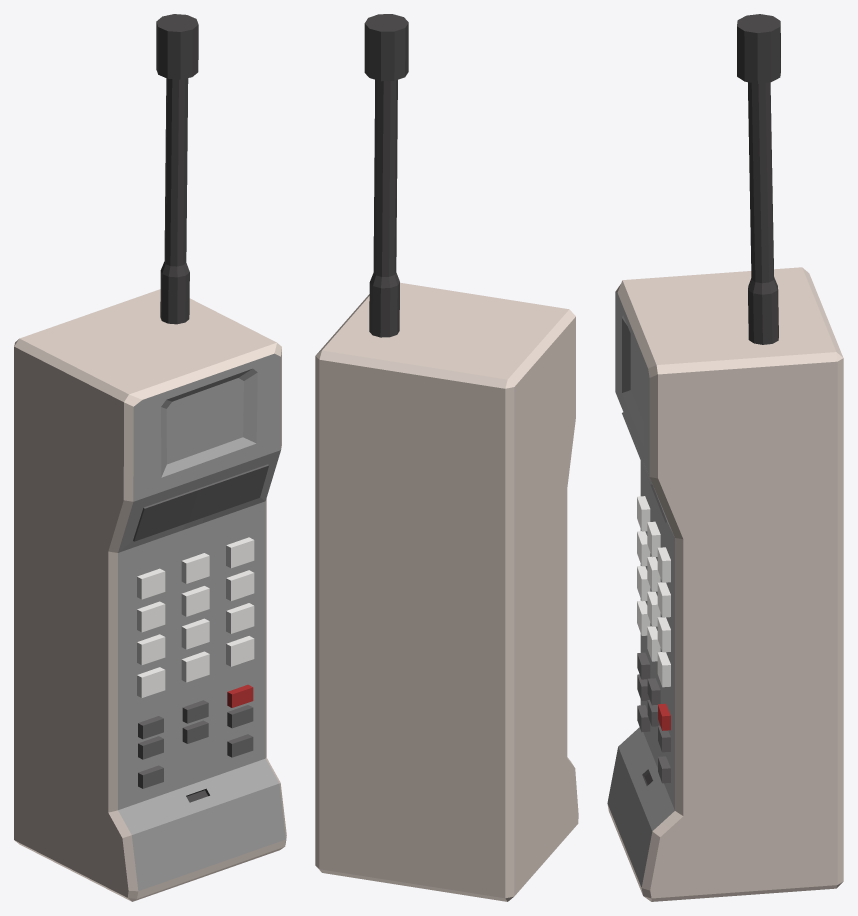
File: Telephone_2.fbx
3 renders of one model, left to right at view 1: azimuth 30°, elevation 25°; view 2: azimuth 150°, elevation 25°; view 3: azimuth 270°, elevation 25°, orthographic. The views are drawn at different scales.
Parts seen in each view (by area): view 1: Telephone_2; view 2: Telephone_2; view 3: Telephone_2.
Boxes of the visible parts, x1,y1,x2,y2 form: Telephone_2: (14, 14, 286, 901); Telephone_2: (315, 14, 578, 901); Telephone_2: (607, 14, 843, 901).
Size of the model in its own units: 12.17 by 11.64 by 46.31.
